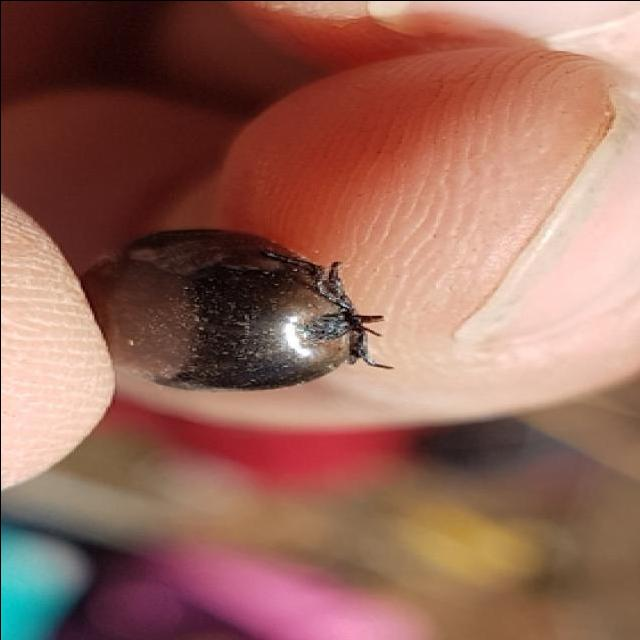Ixodes Ricinus-F-Fed: (82, 224, 383, 389)
